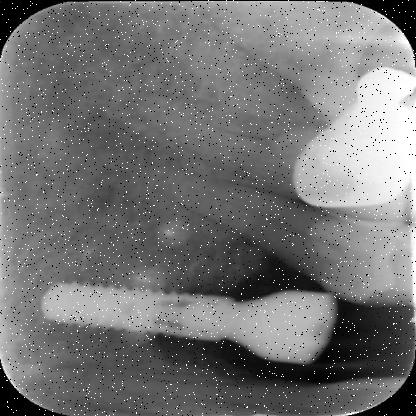ITI: (42, 258, 240, 350)
